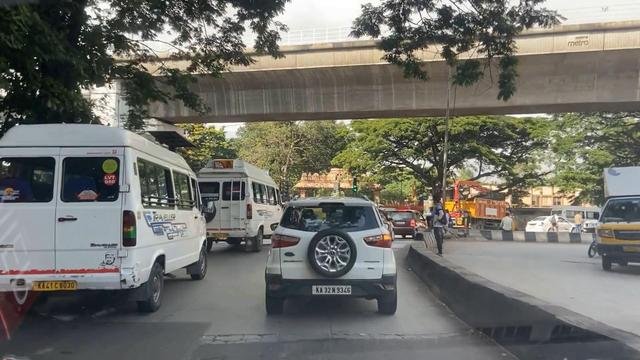HMV: (0, 126, 206, 311), (199, 166, 272, 245)
LMV: (260, 196, 403, 319)
RoadDamages: (189, 316, 466, 360)
